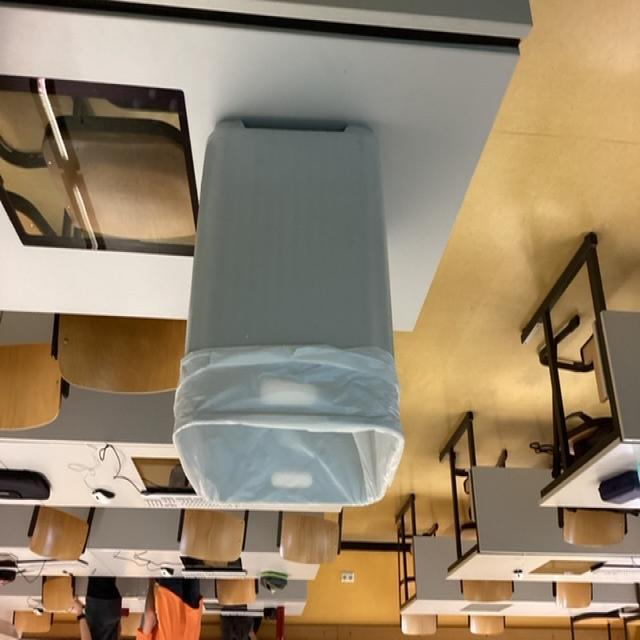garbage container: (160, 98, 426, 563)
